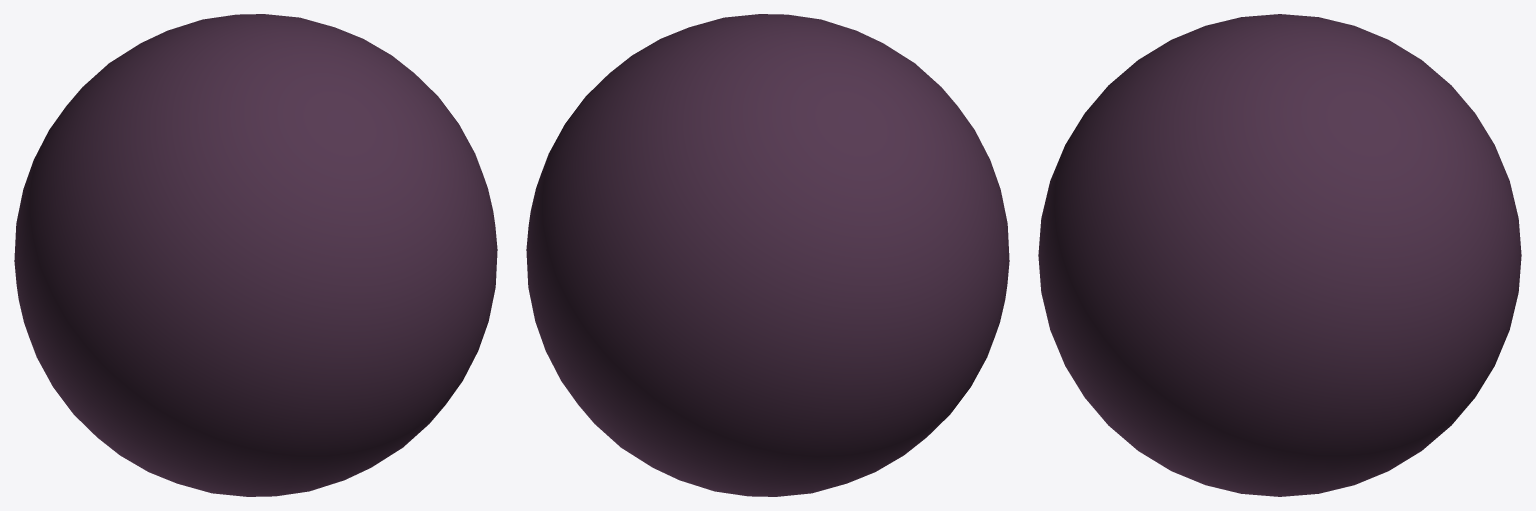
The model's file is bally.obj.
The picture shows the model from 3 angles, left to right: view 1: azimuth 30°, elevation 25°; view 2: azimuth 150°, elevation 25°; view 3: azimuth 270°, elevation 25°; orthographic projection.
Parts seen in each view (by area): view 1: Icosphere; view 2: Icosphere; view 3: Icosphere.
Part boxes in pixels (<box>): Icosphere: <box>14,14,497,496</box>; Icosphere: <box>526,14,1009,496</box>; Icosphere: <box>1038,14,1521,496</box>.
Size of the model in its own units: 2 by 2 by 2.
1 material, 1 textured.
